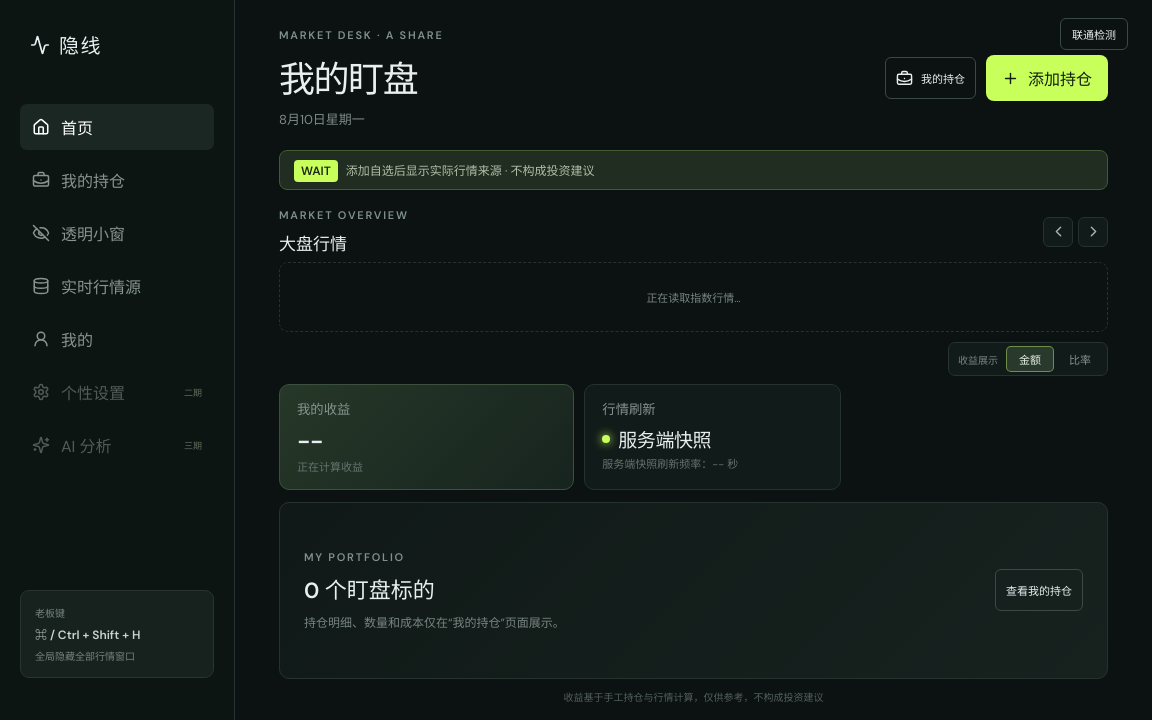
Test: Dashboard › 新增失败时保留首页、对话框和已输入内容
The width and height of the screenshot is (1152, 720).
Click the button "添加持仓" at (1047, 78), box x1=986 y1=55 x2=1108 y2=101
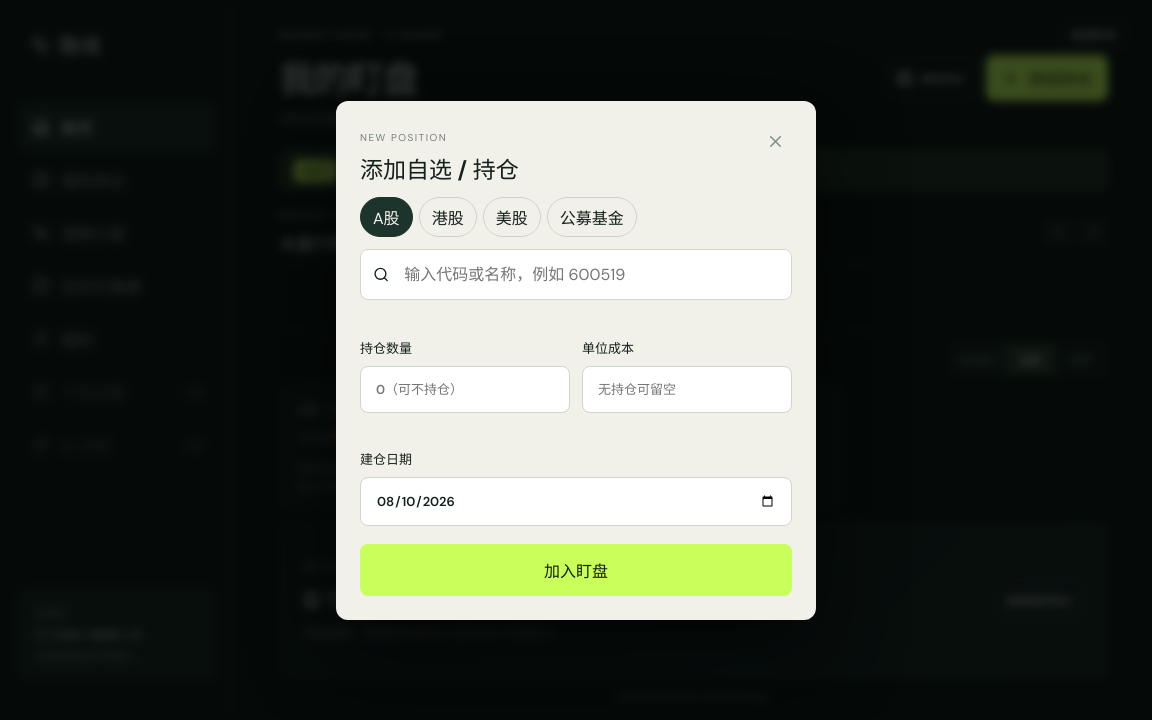
Type "600519" into the field with placeholder "输入代码或名称，例如 600519" at (590, 274), box x1=389 y1=250 x2=791 y2=298
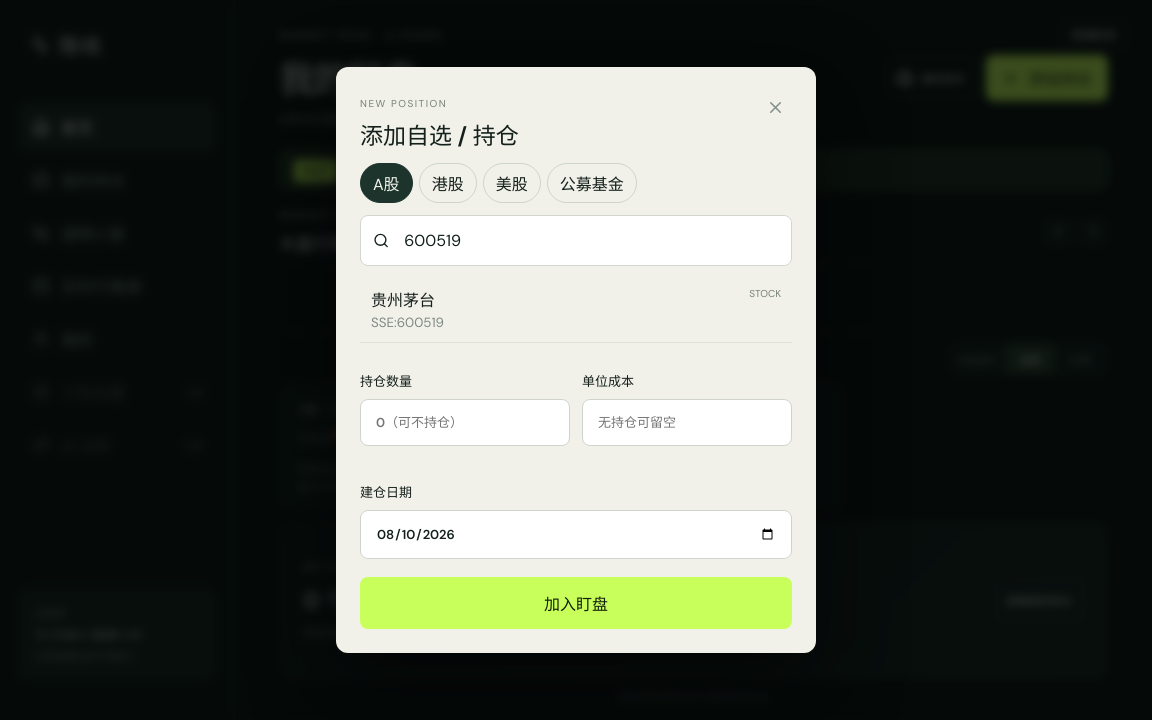
Click the text "贵州茅台" at (408, 299), box x1=371 y1=287 x2=444 y2=311
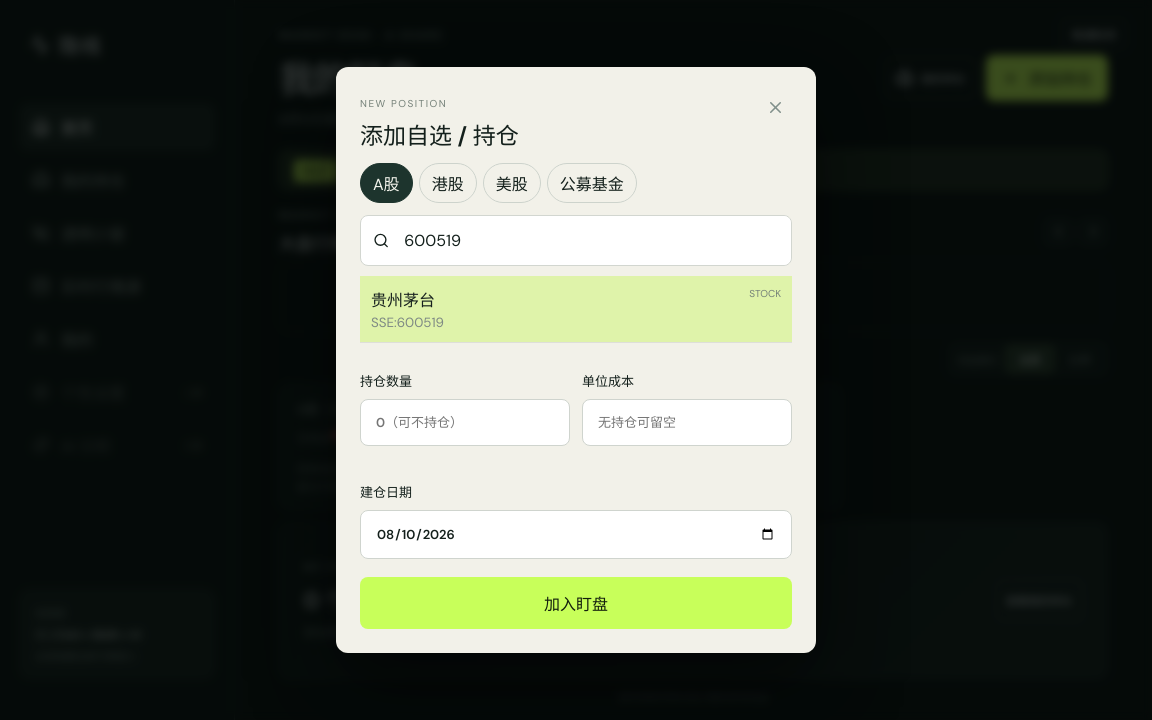
Type "100" into the field labelled "持仓数量" at (465, 422), box x1=360 y1=399 x2=570 y2=446
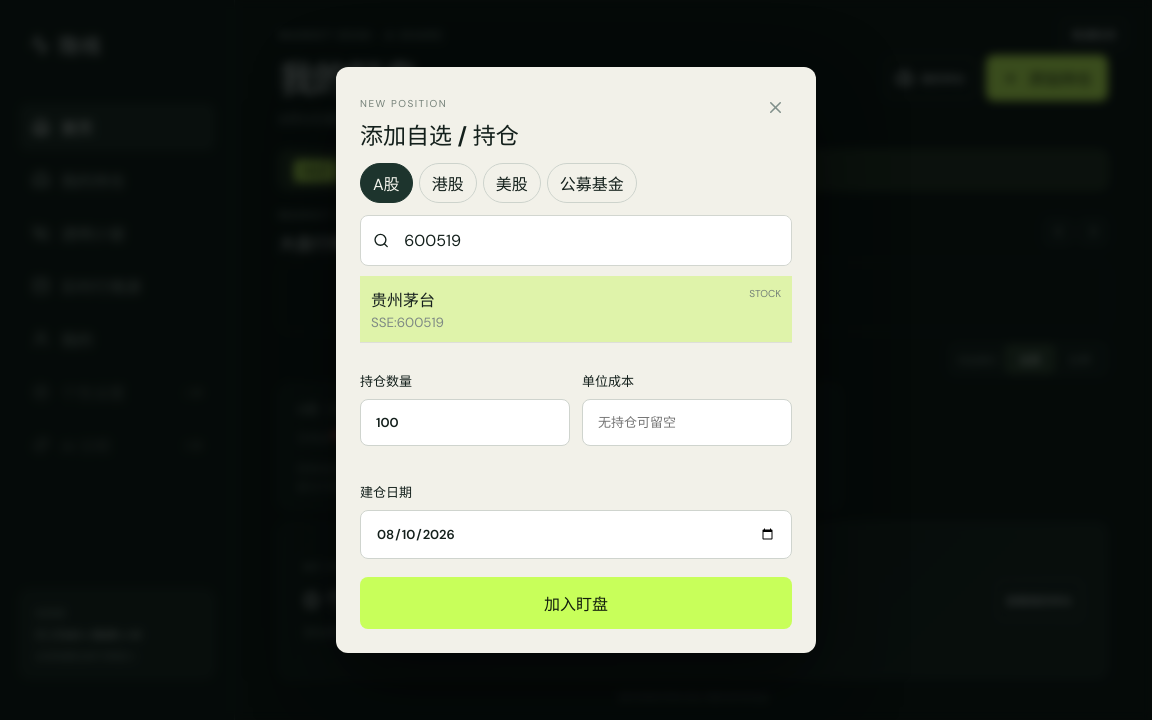
Type "1200.5" into the field labelled "单位成本" at (687, 422), box x1=582 y1=399 x2=792 y2=446
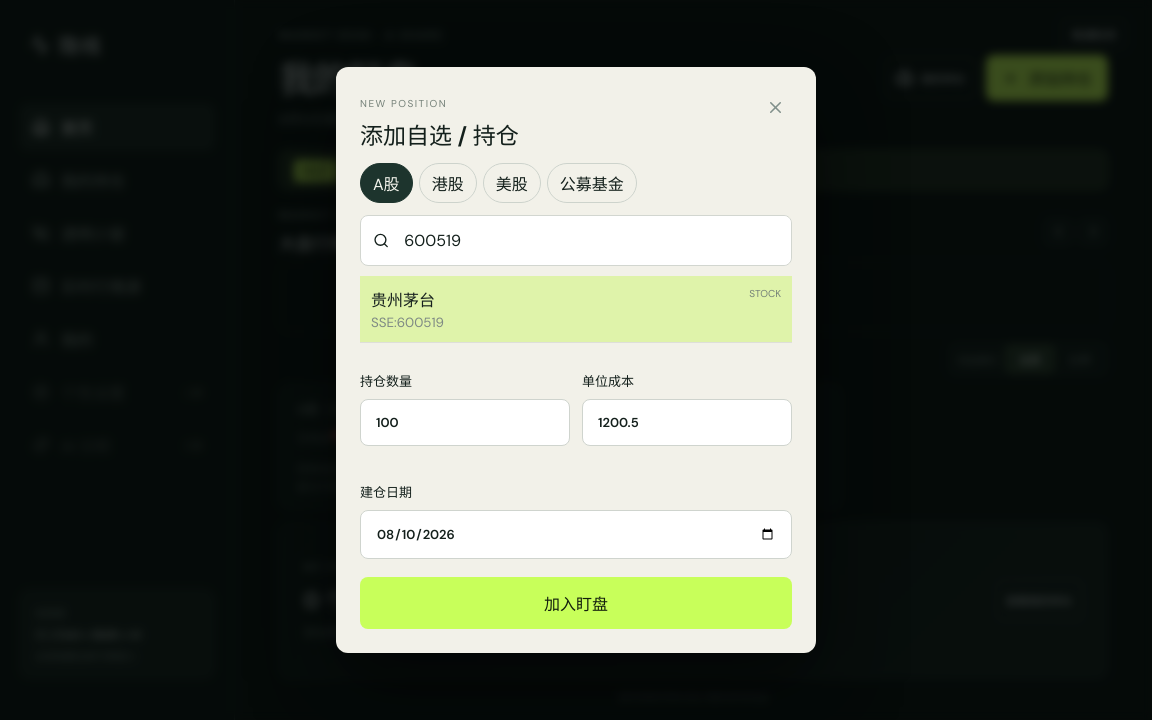
Click the button "加入盯盘" at (576, 603), box x1=360 y1=577 x2=792 y2=629
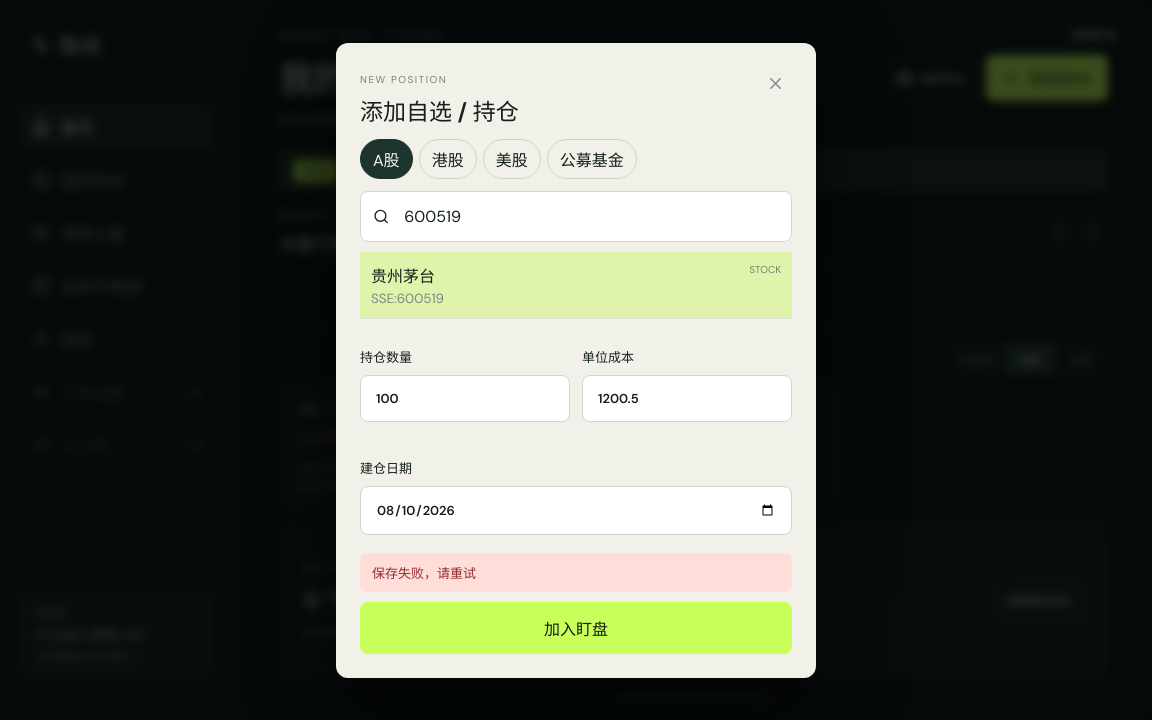
Expected: the heading "我的盯盘" is shown, x1=279 y1=56 x2=417 y2=103
Result: the text "保存失败，请重试" is shown at x1=360 y1=552 x2=792 y2=592
